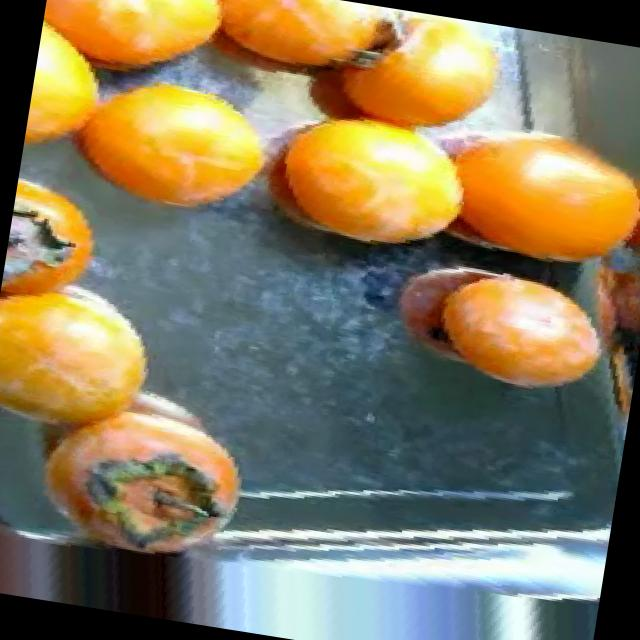Fruit: (52, 61, 296, 240), (411, 258, 626, 412)
